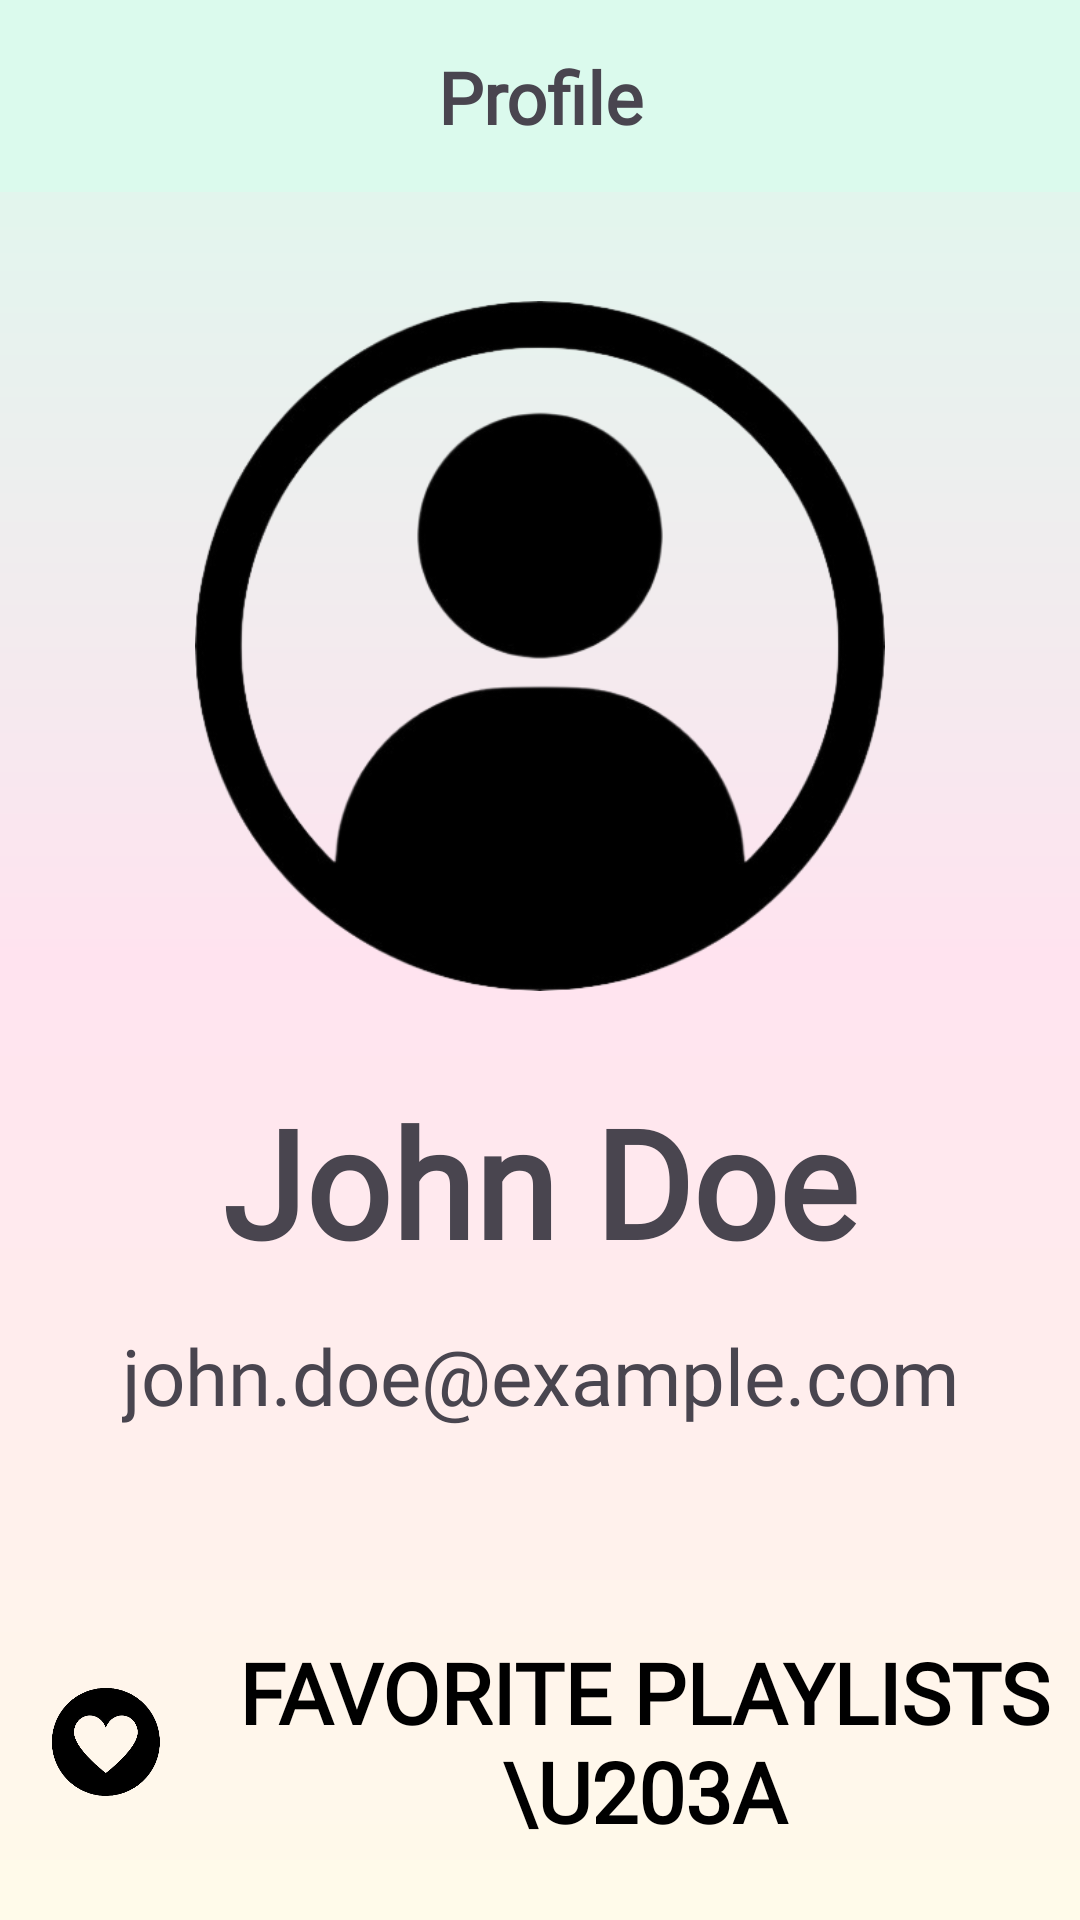

Locate icon controls on the screen. Image size 1080*1920, boxes as Rect(x1, y1, x2, y2).
favorites: Rect(52, 1688, 160, 1796)
